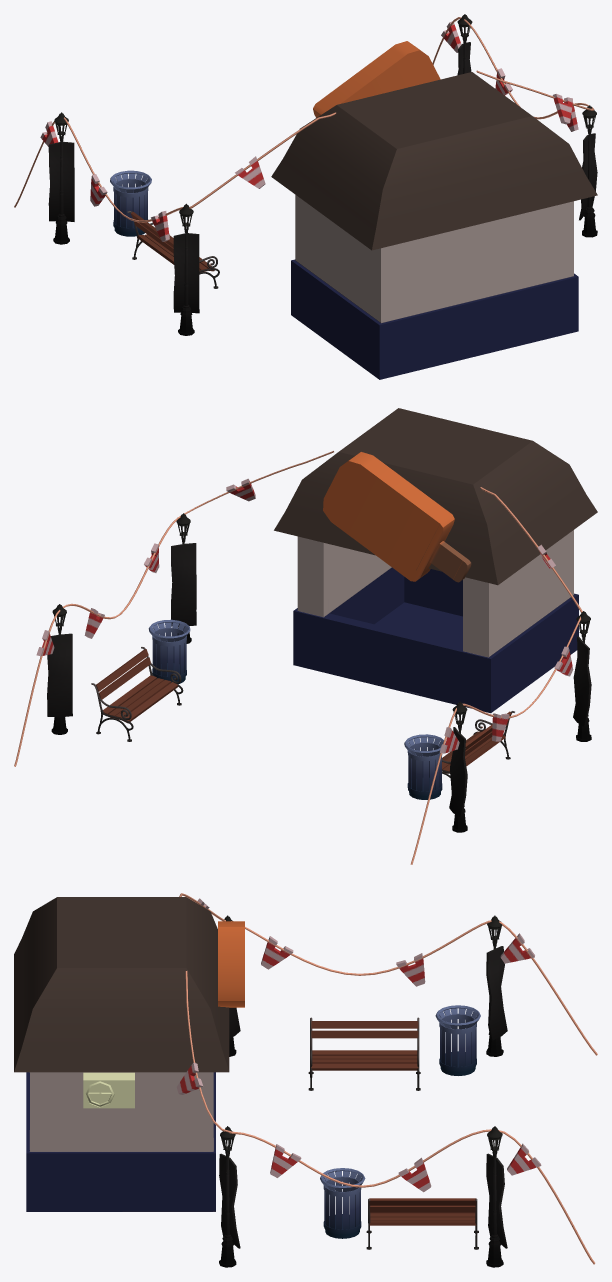
The model's file is Ozdoby_Otoczenia.fbx.
3 renders of one model, top to bottom at view 1: azimuth 30°, elevation 25°; view 2: azimuth 150°, elevation 25°; view 3: azimuth 270°, elevation 25°, orthographic. The views are drawn at different scales.
Parts seen in each view (by area): view 1: Sklepik.001, Lampa.004, Sklepik.002, Flagi.002, Kosz.002, BézierCurve.002, Lawka; view 2: Sklepik.001, Sklepik.002, Lampa.004, Lawka.003, Flagi.002, BézierCurve.002, Kosz.002, Kosz.001, Lawka; view 3: Sklepik.001, Lampa.004, Lawka, Flagi.002, Lawka.003, BézierCurve.002, Kosz.002, Kosz.001, Sklepik.002, Sklepik.003.
Boxes of the visible parts, bbox=[...] form: Sklepik.001: bbox=[271, 72, 597, 379]; Lampa.004: bbox=[48, 14, 597, 335]; Sklepik.002: bbox=[313, 41, 440, 117]; Flagi.002: bbox=[40, 21, 578, 241]; Kosz.002: bbox=[110, 170, 151, 236]; BézierCurve.002: bbox=[14, 17, 594, 222]; Lawka: bbox=[127, 211, 219, 288]; Sklepik.001: bbox=[274, 408, 597, 713]; Sklepik.002: bbox=[323, 452, 471, 582]; Lampa.004: bbox=[47, 513, 591, 832]; Lawka.003: bbox=[91, 647, 183, 741]; Flagi.002: bbox=[36, 478, 573, 753]; BézierCurve.002: bbox=[14, 451, 582, 864]; Kosz.002: bbox=[404, 734, 445, 799]; Kosz.001: bbox=[148, 619, 190, 684]; Lawka: bbox=[442, 711, 514, 777]; Sklepik.001: bbox=[14, 897, 229, 1211]; Lampa.004: bbox=[219, 915, 507, 1267]; Lawka: bbox=[308, 1017, 420, 1090]; Flagi.002: bbox=[176, 898, 541, 1192]; Lawka.003: bbox=[366, 1198, 478, 1249]; BézierCurve.002: bbox=[179, 893, 597, 1264]; Kosz.002: bbox=[435, 1005, 480, 1075]; Kosz.001: bbox=[320, 1168, 365, 1238]; Sklepik.002: bbox=[218, 921, 244, 1007]; Sklepik.003: bbox=[83, 1072, 134, 1108].
Bounding box in the file's own units: 884 × 465 × 988.
Materials: 3 (3 with a texture image).
